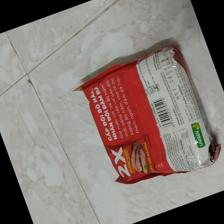3mien: (71, 45, 222, 185)
